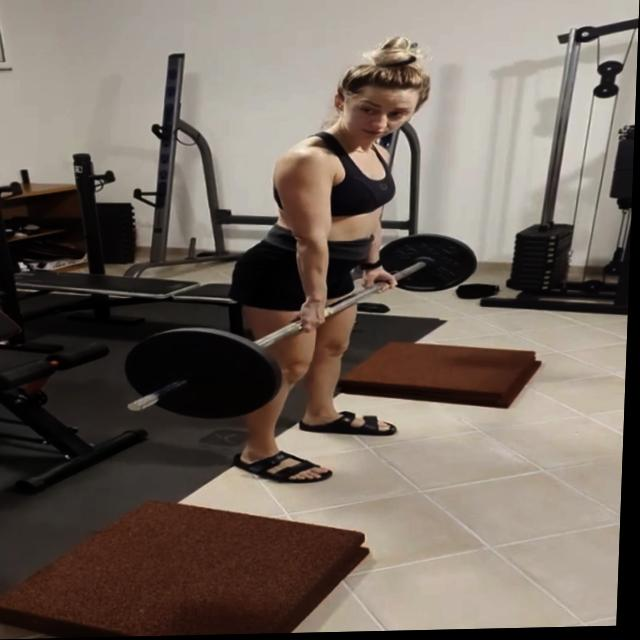barbell: (118, 322, 291, 427)
